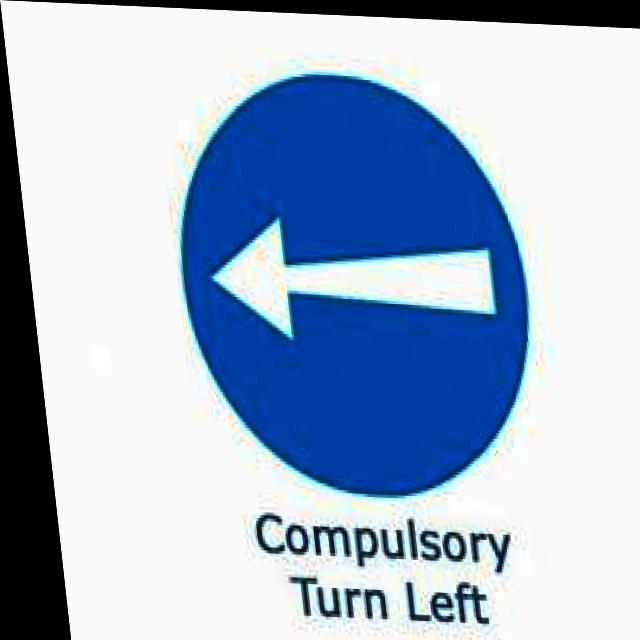COMPULSARY_TURN_LEFT: (157, 62, 541, 505)
